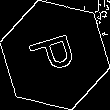P_E: (26, 30, 84, 80)
